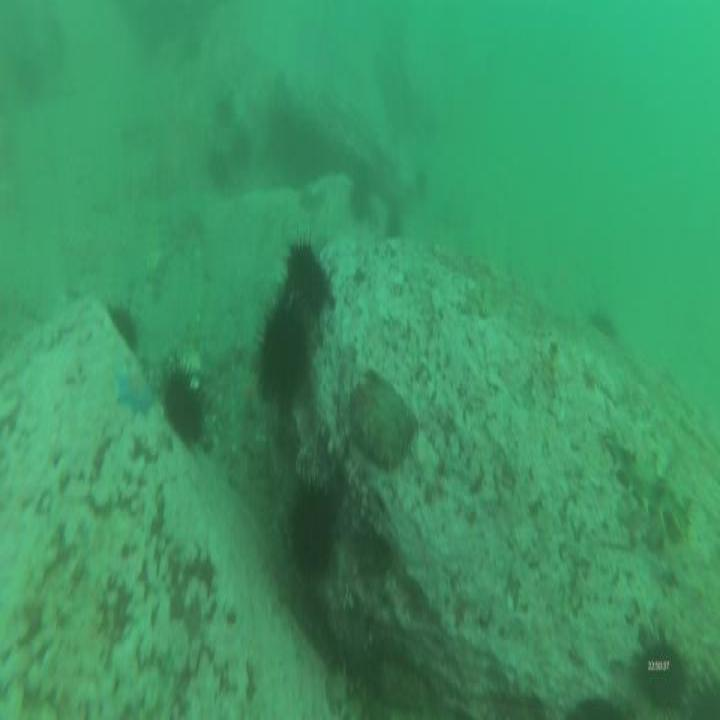echinus: (250, 302, 314, 416), (284, 476, 341, 592), (632, 627, 694, 720), (281, 229, 334, 327), (159, 357, 211, 448), (562, 684, 632, 720), (103, 299, 143, 357), (12, 54, 44, 109), (688, 665, 720, 720), (206, 144, 234, 194), (584, 304, 620, 341), (228, 124, 254, 172), (211, 92, 235, 137), (348, 176, 371, 222), (383, 202, 401, 244), (412, 163, 431, 202)
holothurian: (602, 428, 695, 537), (463, 254, 503, 322)
starfish: (112, 367, 158, 422)
